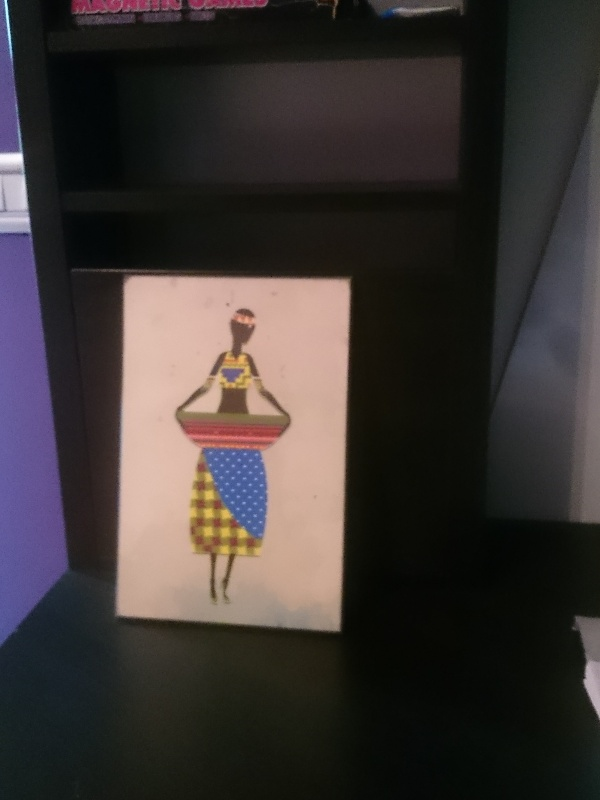my image: (111, 279, 348, 625)
